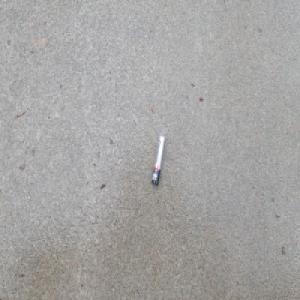Battery: (151, 133, 165, 186)
